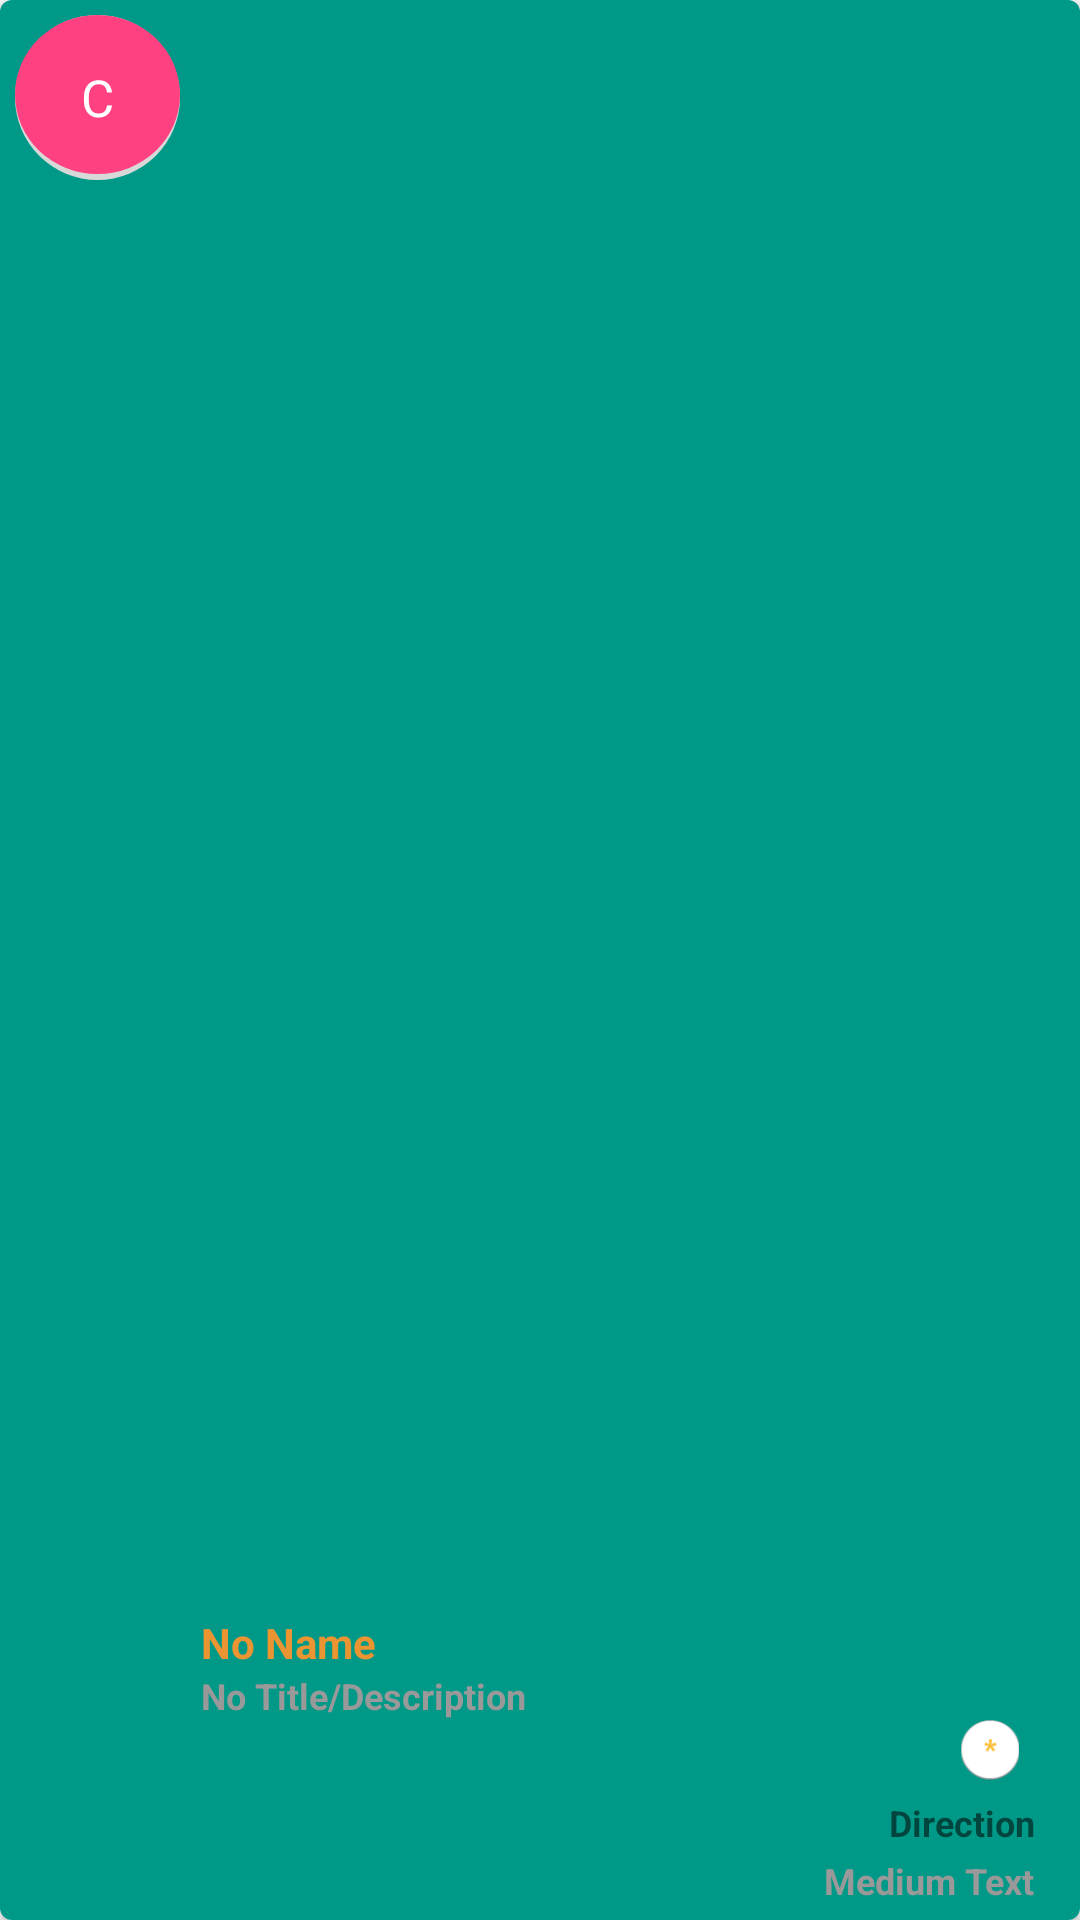

Screen size 1080px x 1920px. Icon name, then its box in pixels as (x1, y1, x2, y2):
star: (961, 1720, 1019, 1780)
